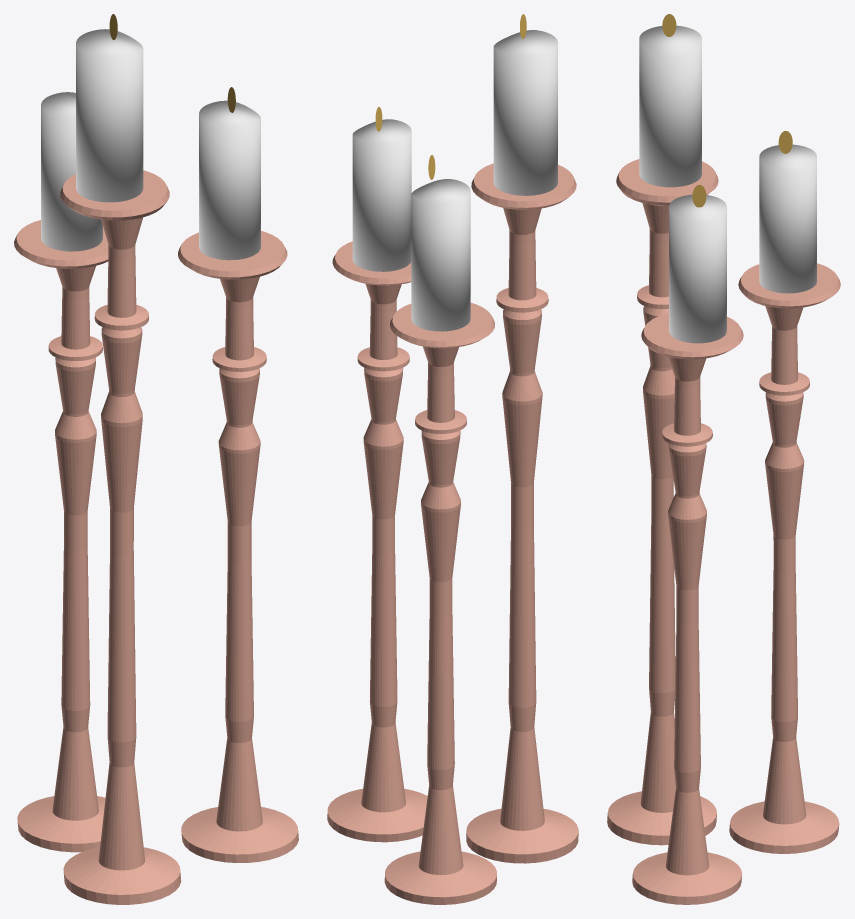
Rendered from candle.fbx.
The picture shows the model from 3 angles, left to right: view 1: azimuth 30°, elevation 25°; view 2: azimuth 150°, elevation 25°; view 3: azimuth 270°, elevation 25°; orthographic projection. The views are drawn at different scales.
Parts seen in each view (by area): view 1: PillarCandle; view 2: PillarCandle; view 3: PillarCandle.
Part boxes in pixels (x1=…): PillarCandle: x1=14, y1=14, x2=298, y2=904; PillarCandle: x1=327, y1=14, x2=578, y2=904; PillarCandle: x1=607, y1=14, x2=840, y2=904.
Size of the model in its own units: 77.22 by 272 by 71.52.
